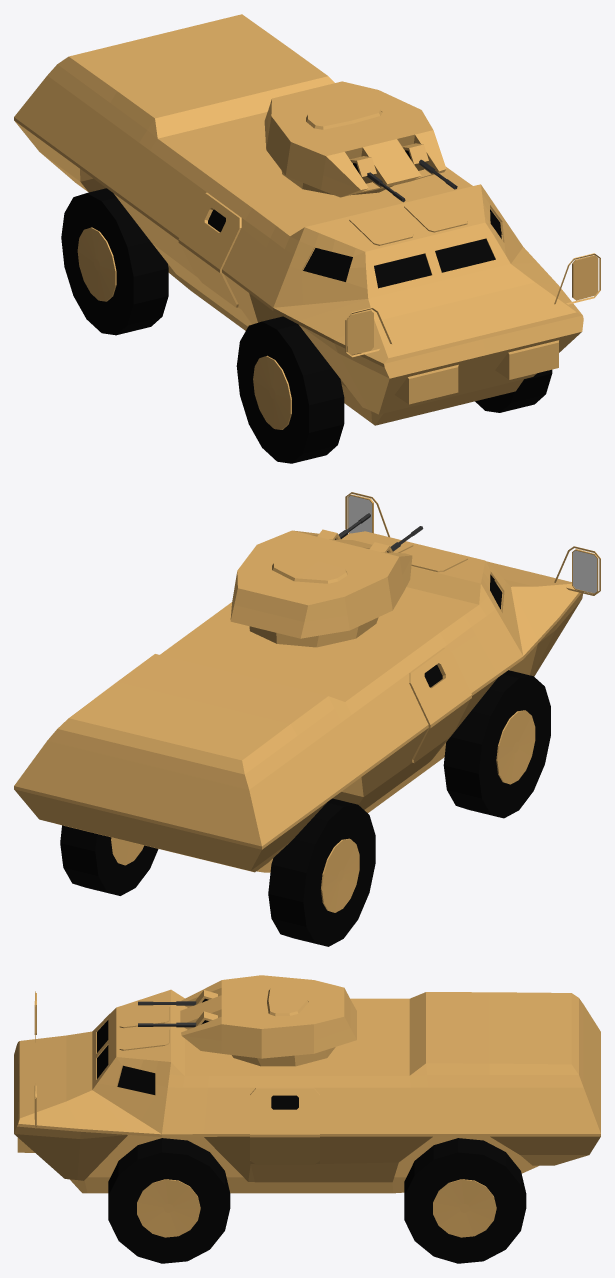
The picture shows the model from 3 angles, top to bottom: view 1: azimuth 30°, elevation 25°; view 2: azimuth 150°, elevation 25°; view 3: azimuth 270°, elevation 25°; orthographic projection. The views are drawn at different scales.
Parts seen in each view (by area): view 1: Plane.044, Plane.040, Cylinder.026, Cylinder.027, Plane.047, Plane.048, Plane.049, Cylinder.024, Plane.045, Plane.046, Cylinder.029, Cylinder.028; view 2: Plane.044, Plane.040, Cylinder.027, Cylinder.026, Cylinder.025, Plane.047, Plane.045, Plane.046, Plane.048; view 3: Plane.044, Cylinder.025, Cylinder.024, Plane.040, Plane.043, Plane.042, Plane.045, Plane.049, Plane.048, Cylinder.028, Cylinder.029.
Boxes of the visible parts, left/top/right/bottom form: Plane.044: left=14, top=14, right=600, bottom=425; Plane.040: left=264, top=81, right=446, bottom=197; Cylinder.026: left=236, top=316, right=344, bottom=463; Cylinder.027: left=61, top=188, right=168, bottom=335; Plane.047: left=178, top=192, right=241, bottom=272; Plane.048: left=349, top=208, right=413, bottom=245; Plane.049: left=404, top=195, right=467, bottom=232; Cylinder.024: left=475, top=369, right=552, bottom=412; Plane.045: left=306, top=101, right=381, bottom=129; Plane.046: left=180, top=244, right=238, bottom=307; Cylinder.029: left=350, top=156, right=405, bottom=202; Cylinder.028: left=402, top=143, right=457, bottom=189; Plane.044: left=14, top=492, right=600, bottom=872; Plane.040: left=230, top=530, right=412, bottom=647; Cylinder.027: left=268, top=798, right=375, bottom=946; Cylinder.026: left=443, top=670, right=550, bottom=818; Cylinder.025: left=60, top=825, right=158, bottom=895; Plane.047: left=409, top=648, right=471, bottom=728; Plane.045: left=272, top=555, right=347, bottom=583; Plane.046: left=412, top=699, right=470, bottom=762; Plane.048: left=411, top=548, right=467, bottom=572; Plane.044: left=14, top=989, right=600, bottom=1193; Cylinder.025: left=404, top=1138, right=526, bottom=1263; Cylinder.024: left=108, top=1138, right=230, bottom=1263; Plane.040: left=180, top=975, right=356, bottom=1066; Plane.043: left=250, top=1087, right=319, bottom=1137; Plane.042: left=250, top=1137, right=319, bottom=1164; Plane.045: left=267, top=986, right=308, bottom=1016; Plane.049: left=119, top=1028, right=169, bottom=1050; Plane.048: left=119, top=1006, right=169, bottom=1028; Cylinder.028: left=138, top=1011, right=217, bottom=1027; Cylinder.029: left=138, top=990, right=217, bottom=1005.
Size of the model in its own units: 280 by 274 by 662.
